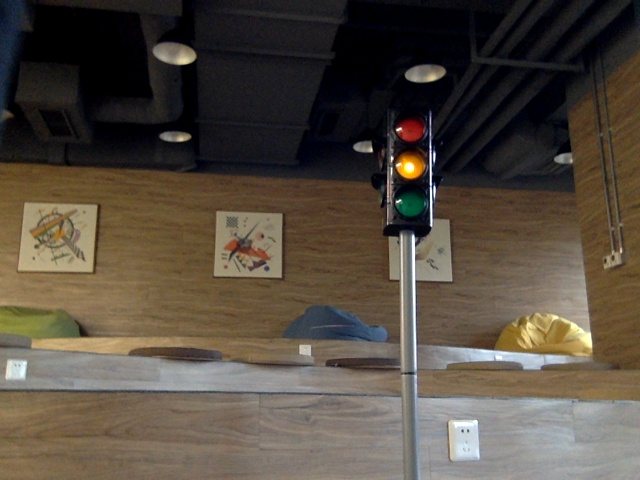yellow: (389, 117, 431, 221)
